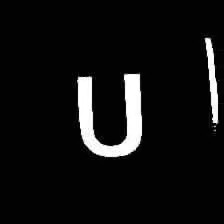LTR_U: (70, 67, 153, 162)
